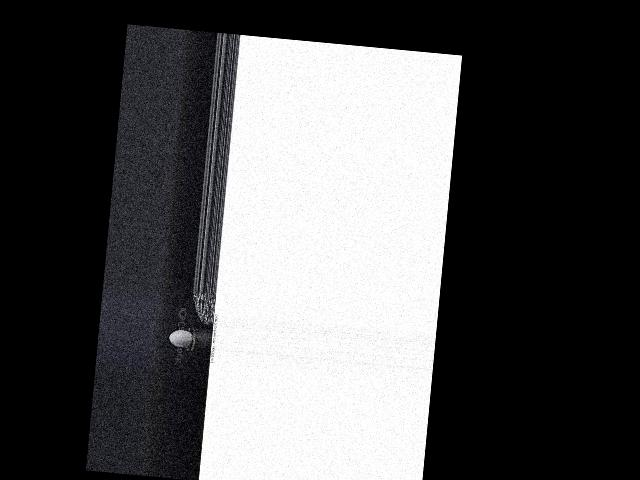egg: (169, 329, 193, 348)
